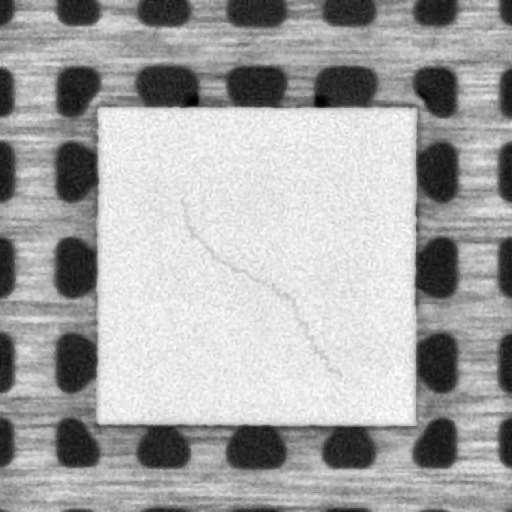DIE_CRACK: (180, 200, 344, 381)
